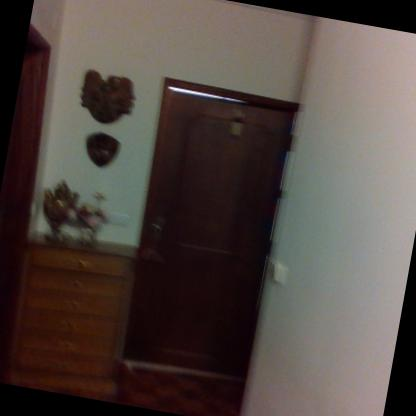closed: (96, 67, 312, 397)
